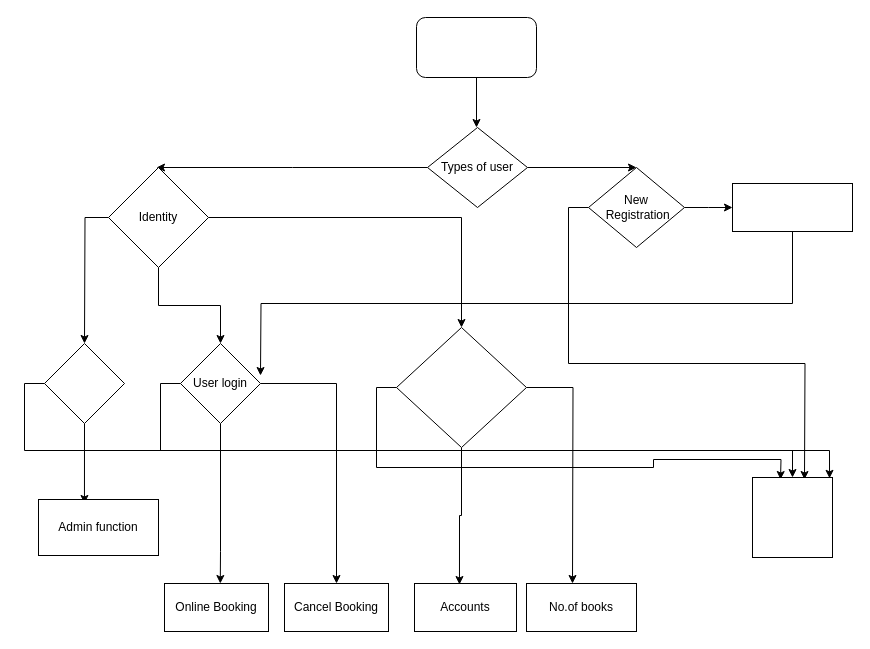
This 870x649 diagram has some shape labels left out. Here are the shapes that lost their labels. From the top down, the centre of each, then its label:
(x=476, y=47): Start
(x=792, y=207): Create Account
(x=84, y=383): Admin
(x=461, y=387): Purchase of books
(x=792, y=517): Error Message
